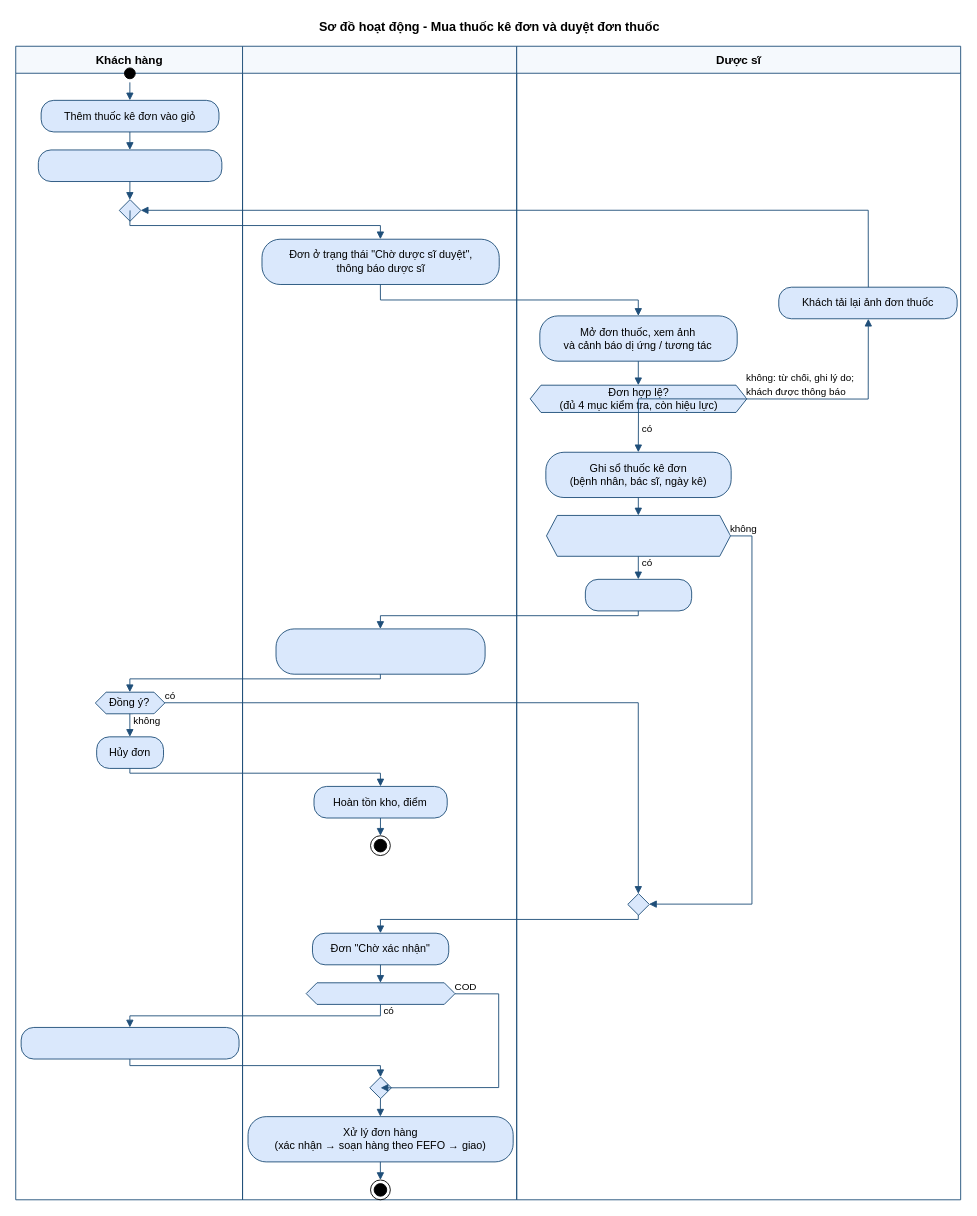
The diagram is 977 pixels wide and 1216 high, and some of its shapes have lost their labels. Each missing label, with the box of its shape:
Cần điều chỉnh? (giảm số lượng / thay thuốc cùng hoạt chất, hàm lượng): (546, 515, 731, 556)
Hệ thống: (242, 45, 517, 1200)
Thanh toán online / chuyển khoản: (20, 1027, 239, 1059)
Thanh toán trả trước?: (305, 982, 455, 1004)
Tính lại tiền, trạng thái "Chờ khách xác nhận": (275, 628, 485, 674)
Tải ảnh đơn thuốc, đặt hàng: (37, 149, 222, 182)
Điều chỉnh đơn: (584, 578, 692, 611)
